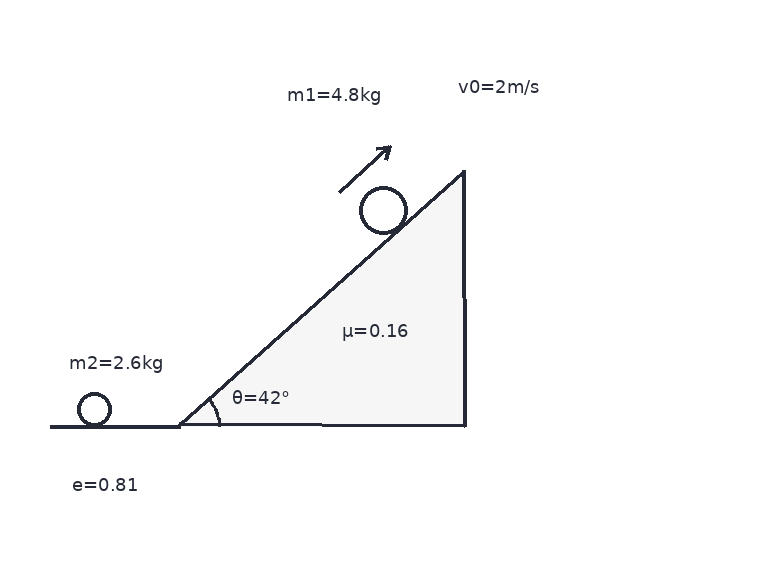ball: (357, 184, 409, 236), (75, 390, 113, 428)
ramp: (177, 168, 466, 428)
